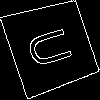U: (25, 22, 83, 71)
